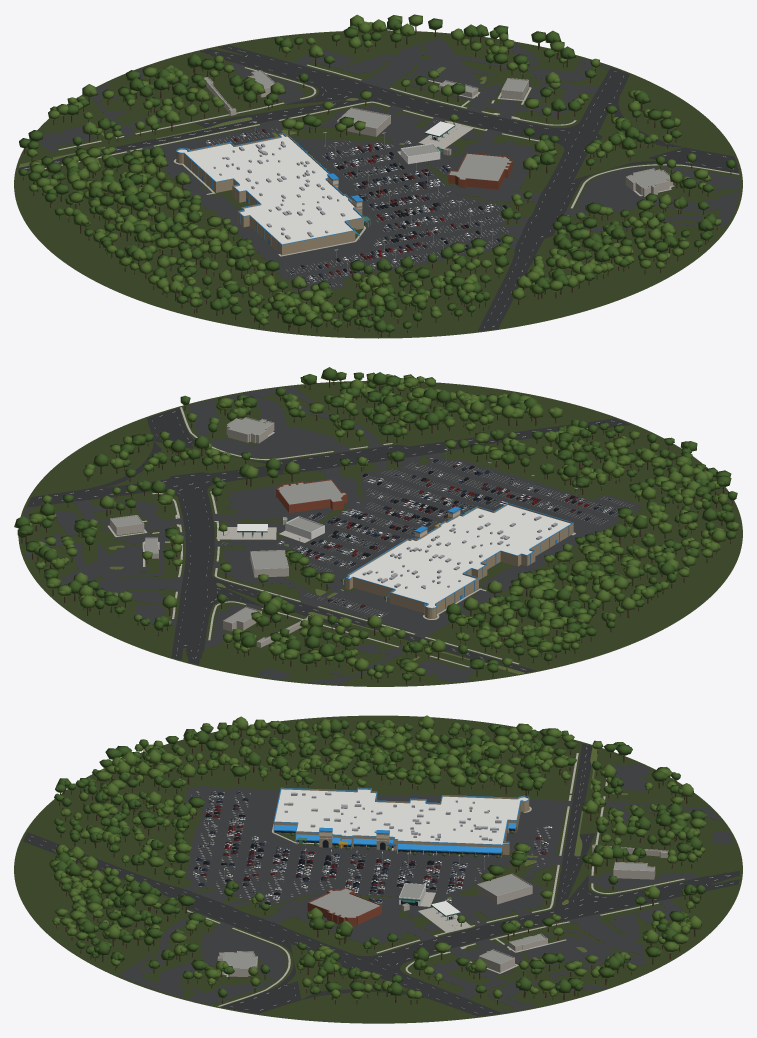
File: sycamore_square_site.glb
3 views of the same model, one above another, from view 1: azimuth 30°, elevation 25°; view 2: azimuth 150°, elevation 25°; view 3: azimuth 270°, elevation 25° (orthographic).
Parts seen in each view (by area): view 1: ground, pavement, roads, main, trees3, trees6, trees1, trees4, trees7, trees0, trees2, trees5 (+12 smaller); view 2: ground, pavement, roads, main, trees6, trees3, trees1, trees4, trees7, trees0, trees5, trees2 (+13 smaller); view 3: ground, pavement, roads, trees6, trees3, main, trees1, trees4, trees7, trees0, trees5, trees2 (+17 smaller).
Boxes of the visible parts, <box> form: ground: <box>14,30,742,338</box>; pavement: <box>37,38,740,291</box>; roads: <box>18,45,739,331</box>; main: <box>176,133,363,255</box>; trees3: <box>28,14,708,333</box>; trees6: <box>73,14,713,315</box>; trees1: <box>66,21,716,337</box>; trees4: <box>19,31,689,332</box>; trees7: <box>47,22,735,328</box>; trees0: <box>26,49,713,336</box>; trees2: <box>18,37,713,329</box>; trees5: <box>40,29,721,334</box>; ground: <box>18,380,742,686</box>; pavement: <box>23,386,642,684</box>; roads: <box>27,408,630,672</box>; main: <box>345,504,573,618</box>; trees6: <box>14,367,725,678</box>; trees3: <box>19,375,731,679</box>; trees1: <box>50,374,734,660</box>; trees4: <box>45,372,733,681</box>; trees7: <box>17,384,739,659</box>; trees0: <box>41,372,736,677</box>; trees5: <box>35,372,706,684</box>; trees2: <box>30,376,732,682</box>; ground: <box>14,715,742,1023</box>; pavement: <box>118,762,732,1012</box>; roads: <box>23,743,739,1016</box>; trees6: <box>52,715,702,1002</box>; trees3: <box>49,723,706,999</box>; main: <box>273,788,529,855</box>; trees1: <box>52,719,699,996</box>; trees4: <box>54,719,690,1004</box>; trees7: <box>61,720,705,1004</box>; trees0: <box>55,722,687,1003</box>; trees5: <box>53,723,705,998</box>; trees2: <box>52,724,700,999</box>.
Size of the model in its own units: 520 by 17.39 by 520.
